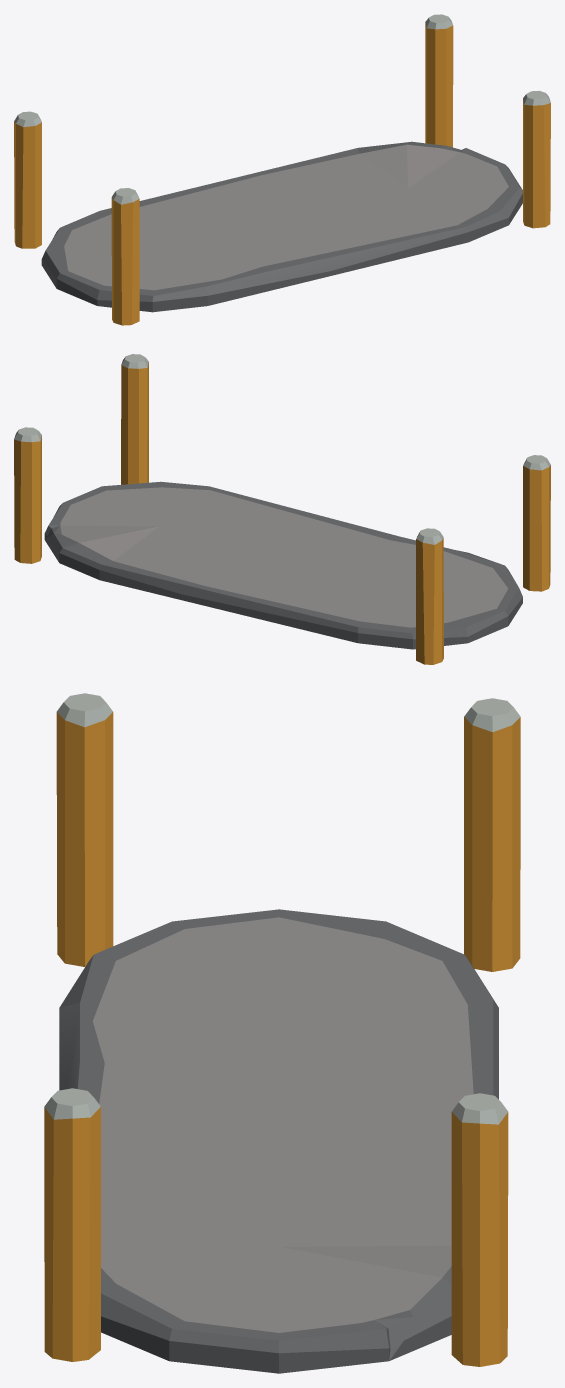
Rendered from SM_Prop_Gaspump_Base_01.fbx.
The picture shows the model from 3 angles, top to bottom: view 1: azimuth 30°, elevation 25°; view 2: azimuth 150°, elevation 25°; view 3: azimuth 270°, elevation 25°; orthographic projection. The views are drawn at different scales.
Visible parts, largest first — view 1: SM_Prop_Gaspump_Base_01; view 2: SM_Prop_Gaspump_Base_01; view 3: SM_Prop_Gaspump_Base_01.
Boxes of the visible parts, x1=… form: SM_Prop_Gaspump_Base_01: x1=14, y1=14, x2=550, y2=325; SM_Prop_Gaspump_Base_01: x1=14, y1=354, x2=550, y2=664; SM_Prop_Gaspump_Base_01: x1=44, y1=693, x2=520, y2=1373.
Size of the model in its own units: 473 by 128 by 217.
